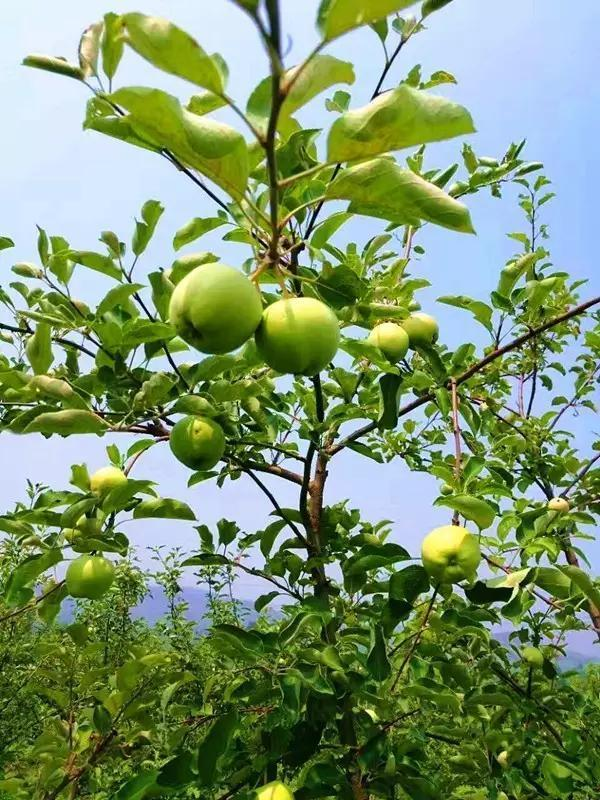apple: (165, 261, 261, 355), (256, 295, 339, 375), (419, 525, 479, 585), (169, 414, 222, 468), (67, 554, 116, 598), (366, 322, 409, 360), (398, 312, 438, 346)
